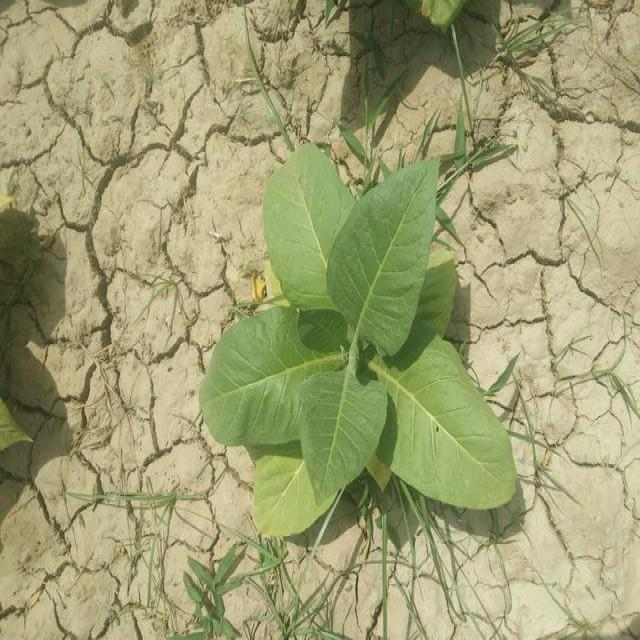crop: (204, 148, 516, 537), (410, 0, 470, 33), (0, 404, 32, 455)
